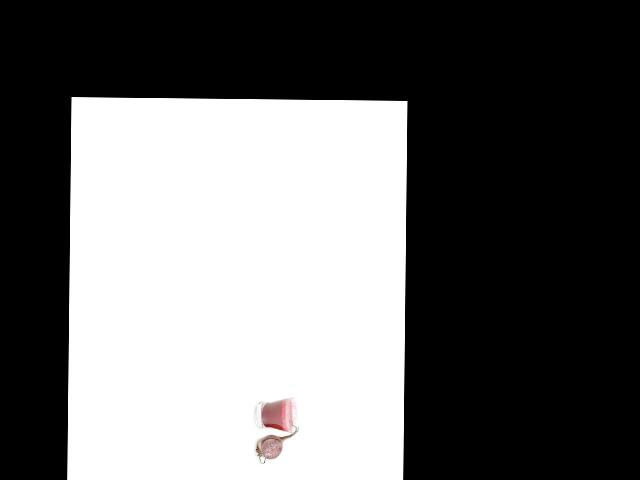beet: (255, 419, 298, 463)
